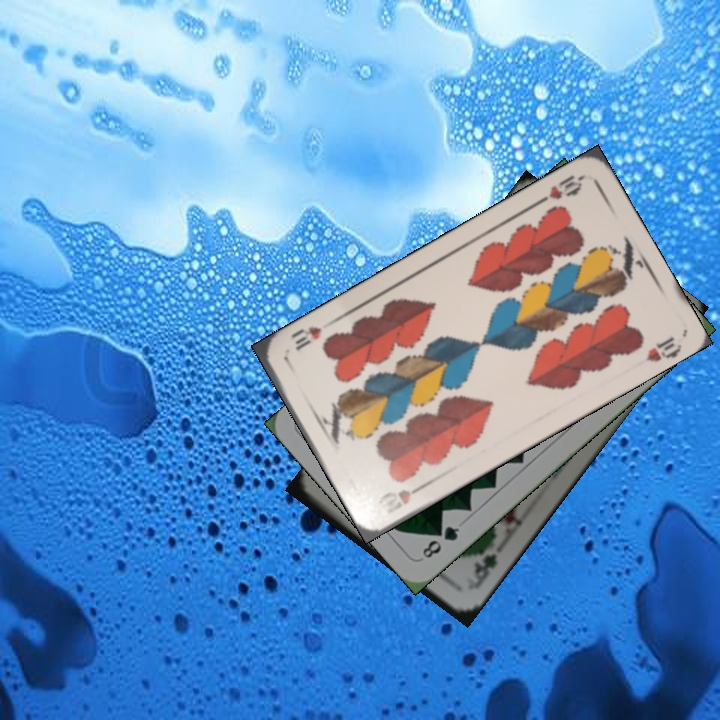G8: (418, 521, 463, 561)
GK: (466, 549, 500, 590)
H10: (532, 170, 587, 208), (380, 478, 429, 517)
